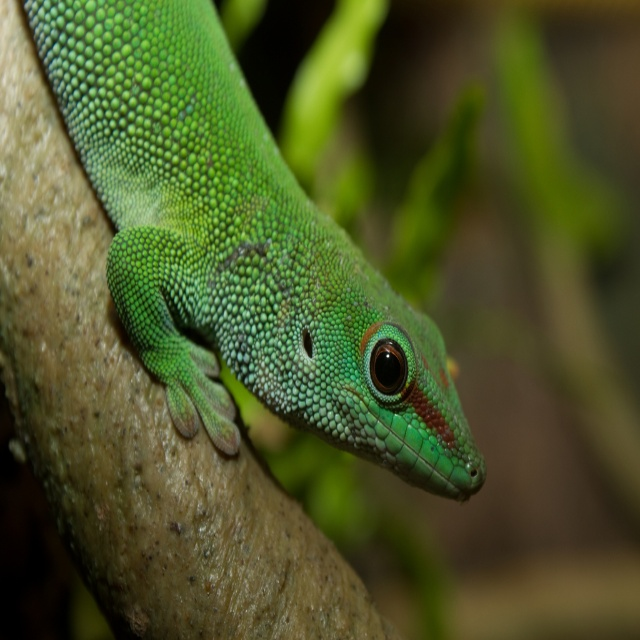Lizard: (11, 0, 516, 572)
